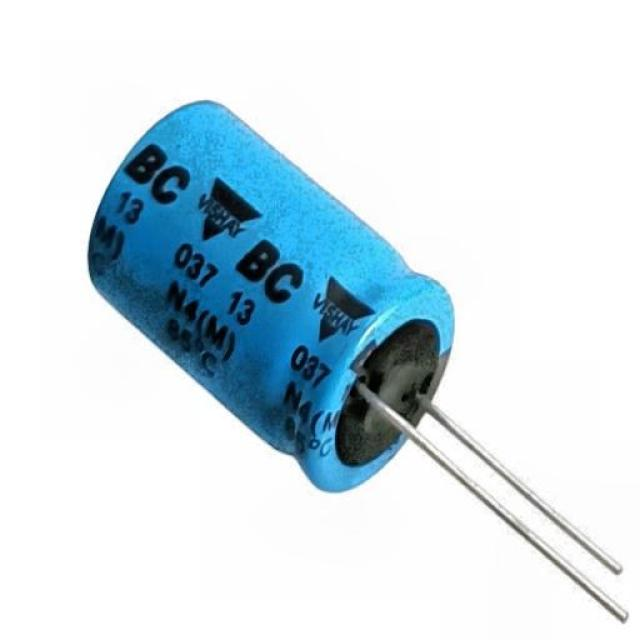Capacitor: (19, 44, 634, 626)
